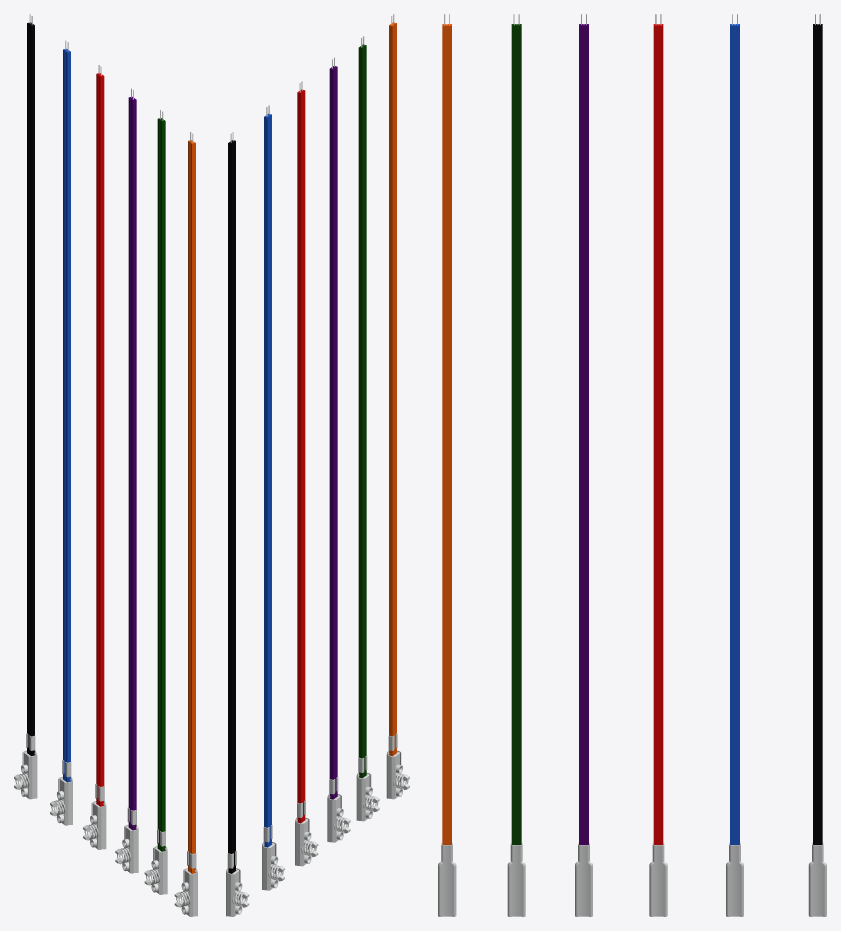
The model's file is AKS 11.glb.
The picture shows the model from 3 angles, left to right: view 1: azimuth 30°, elevation 25°; view 2: azimuth 150°, elevation 25°; view 3: azimuth 270°, elevation 25°; orthographic projection. The views are drawn at different scales.
Visible parts, largest first — view 1: Solid1.018, Solid1.029, Solid1.034, Solid1.013, Solid1.002, Solid1.045, Solid1.023, Solid1.007, Solid1.024, Solid1.040, Solid1.039, Solid1.008; view 2: Solid1.034, Solid1.018, Solid1.029, Solid1.013, Solid1.045, Solid1.002, Solid1.039, Solid1.024, Solid1.040, Solid1.007, Solid1.023, Solid1.008; view 3: Solid1.018, Solid1.034, Solid1.002, Solid1.045, Solid1.013, Solid1.029, Solid1.039, Solid1.023, Solid1.007, Solid1.040, Solid1.008, Solid1.024.
Boxes of the visible parts, box(x1,y1,x2,y2) form: Solid1.018: box(96, 64, 104, 806); Solid1.029: box(128, 88, 136, 830); Solid1.034: box(157, 109, 165, 851); Solid1.013: box(63, 40, 70, 782); Solid1.002: box(27, 14, 34, 755); Solid1.045: box(188, 131, 195, 873); Solid1.023: box(91, 784, 106, 849); Solid1.007: box(22, 733, 37, 798); Solid1.024: box(124, 807, 138, 872); Solid1.040: box(183, 850, 197, 916); Solid1.039: box(153, 828, 167, 894); Solid1.008: box(58, 759, 72, 825); Solid1.034: box(358, 36, 366, 778); Solid1.018: box(297, 81, 305, 823); Solid1.029: box(329, 57, 337, 799); Solid1.013: box(264, 105, 271, 847); Solid1.045: box(389, 14, 396, 755); Solid1.002: box(228, 131, 235, 873); Solid1.039: box(356, 755, 371, 820); Solid1.024: box(327, 776, 341, 842); Solid1.040: box(386, 733, 401, 798); Solid1.007: box(226, 850, 240, 916); Solid1.023: box(295, 800, 309, 865); Solid1.008: box(262, 824, 276, 890); Solid1.018: box(653, 14, 663, 844); Solid1.034: box(511, 14, 521, 844); Solid1.002: box(813, 14, 822, 844); Solid1.045: box(442, 14, 451, 844); Solid1.013: box(730, 14, 739, 844); Solid1.029: box(579, 14, 588, 844); Solid1.039: box(507, 842, 525, 916); Solid1.023: box(649, 842, 667, 916); Solid1.007: box(808, 842, 826, 916); Solid1.040: box(438, 842, 456, 916); Solid1.008: box(726, 842, 743, 916); Solid1.024: box(575, 842, 592, 916).
Bounding box in the file's own units: 0.0126 × 0.5037 × 0.197.
